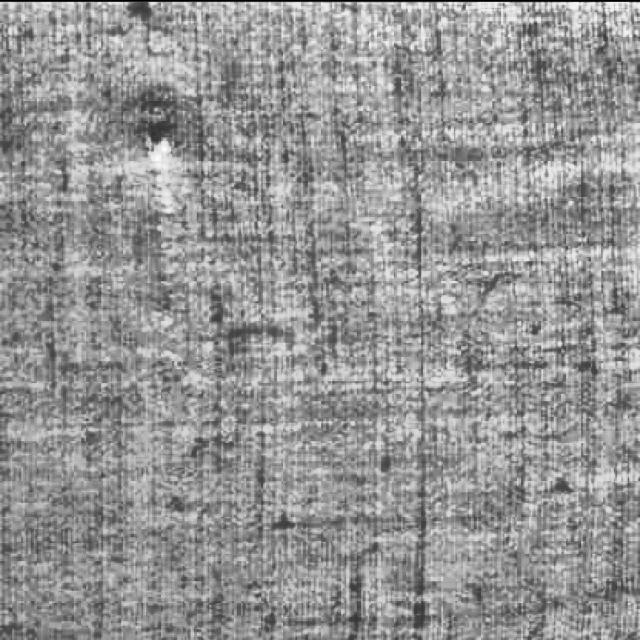thread_error: (127, 102, 202, 338)
